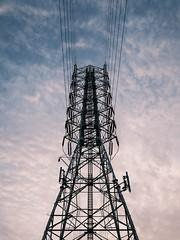power_tower: (41, 62, 141, 240)
